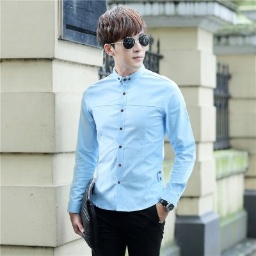face: (97, 6, 151, 72)
